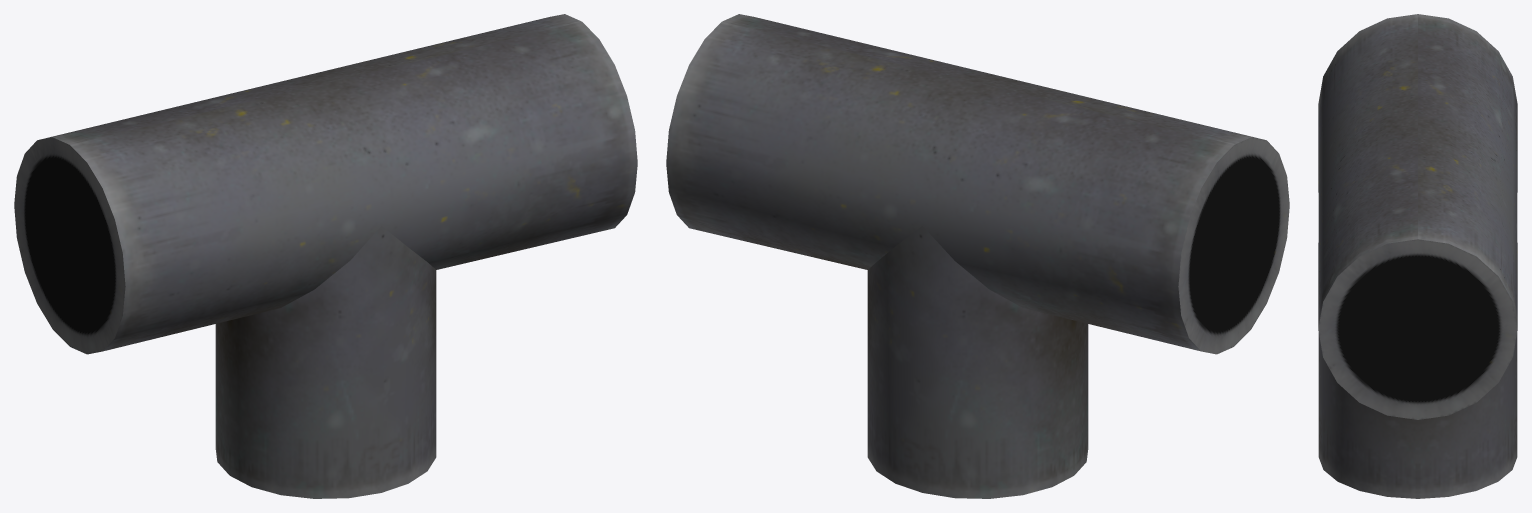
Rendered from PlasticPipe_05a_snaps019.fbx.
3 views of the same model, side by side, from view 1: azimuth 30°, elevation 25°; view 2: azimuth 150°, elevation 25°; view 3: azimuth 270°, elevation 25° (orthographic). The views are drawn at different scales.
Visible parts, largest first — view 1: PlasticPipe_05a_snaps019_LOD0; view 2: PlasticPipe_05a_snaps019_LOD0; view 3: PlasticPipe_05a_snaps019_LOD0.
Part boxes in pixels (left/top/right/bottom): PlasticPipe_05a_snaps019_LOD0: left=14, top=14, right=637, bottom=498; PlasticPipe_05a_snaps019_LOD0: left=666, top=14, right=1289, bottom=498; PlasticPipe_05a_snaps019_LOD0: left=1318, top=14, right=1517, bottom=498.
Size of what is drawn, in the model's own units: 50 by 34.49 by 18.83.
